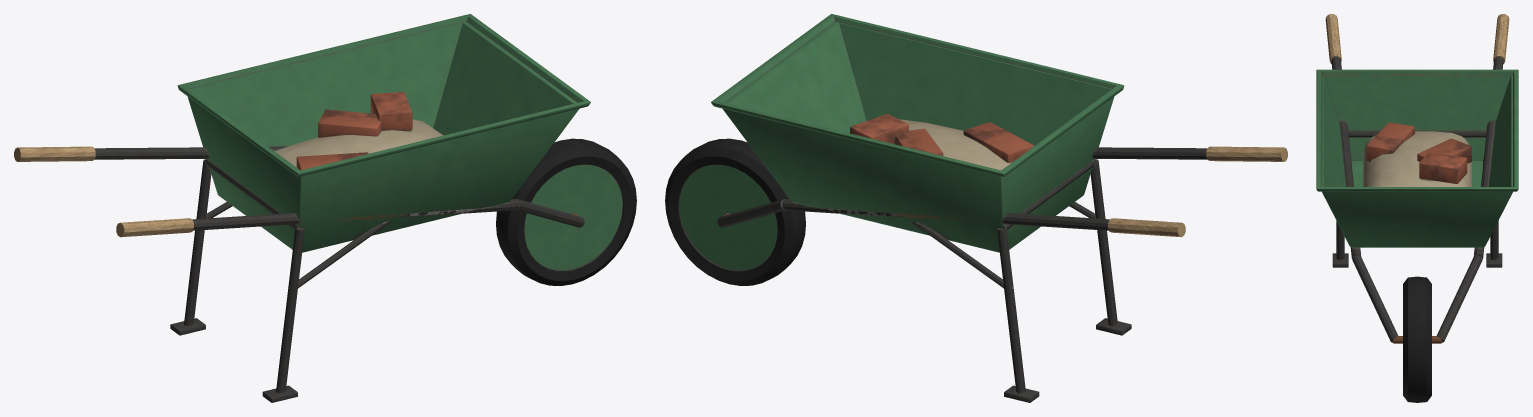
The model's file is carrinho_mao.glb.
The picture shows the model from 3 angles, left to right: view 1: azimuth 30°, elevation 25°; view 2: azimuth 150°, elevation 25°; view 3: azimuth 270°, elevation 25°; orthographic projection. The views are drawn at different scales.
Parts seen in each view (by area): view 1: carrinho; view 2: carrinho; view 3: carrinho.
Part boxes in pixels (bbox=[...]): carrinho: bbox=[14, 14, 636, 402]; carrinho: bbox=[665, 14, 1287, 402]; carrinho: bbox=[1316, 14, 1518, 402].
Size of the model in its own units: 1.7 by 0.6716 by 0.6313.
Materials: 1 (1 with a texture image).
